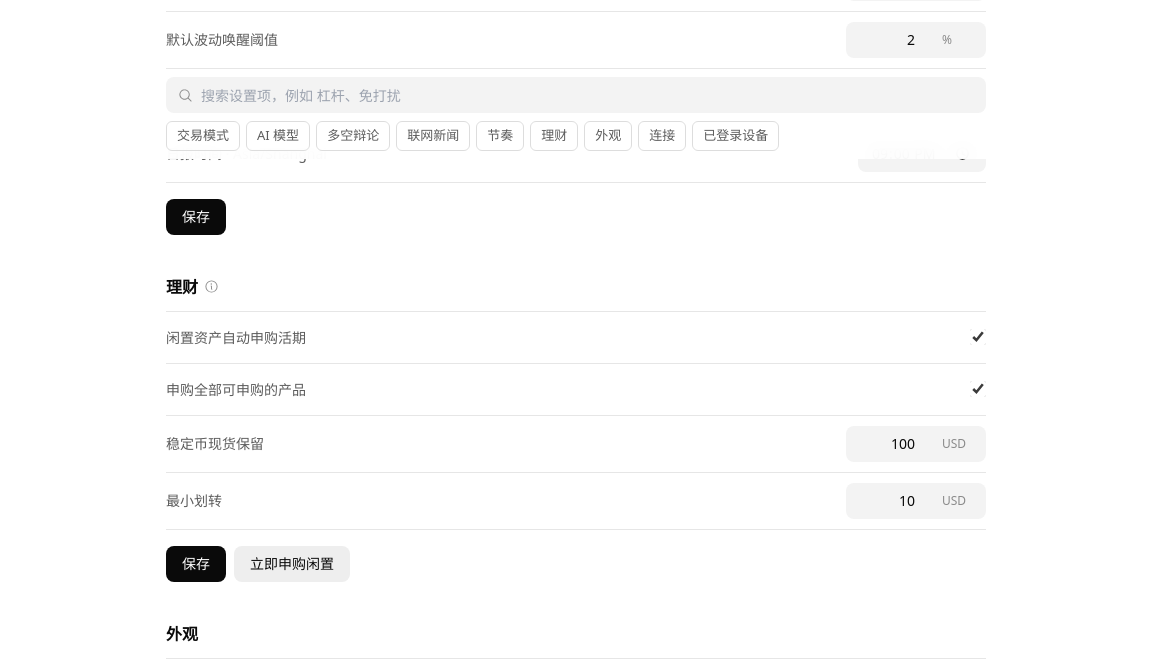
Settings page (设置) › does nothing when the dangerous change is cancelled
(page scrolled)
Expected: the heading "理财" is shown, x1=166 y1=274 x2=219 y2=298
Click the checkbox named "闲置资产自动申购活期".
click(978, 337)  # box x1=970 y1=329 x2=986 y2=345
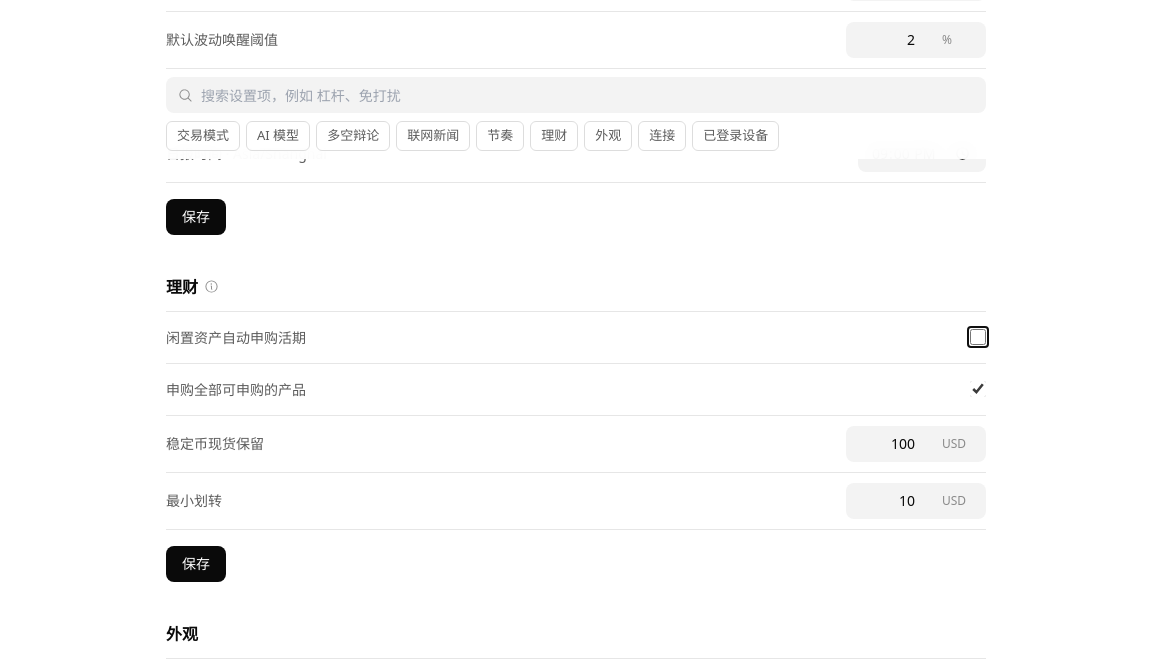
Click the button "保存" below "最小划转".
click(196, 564)  # box x1=166 y1=546 x2=226 y2=582
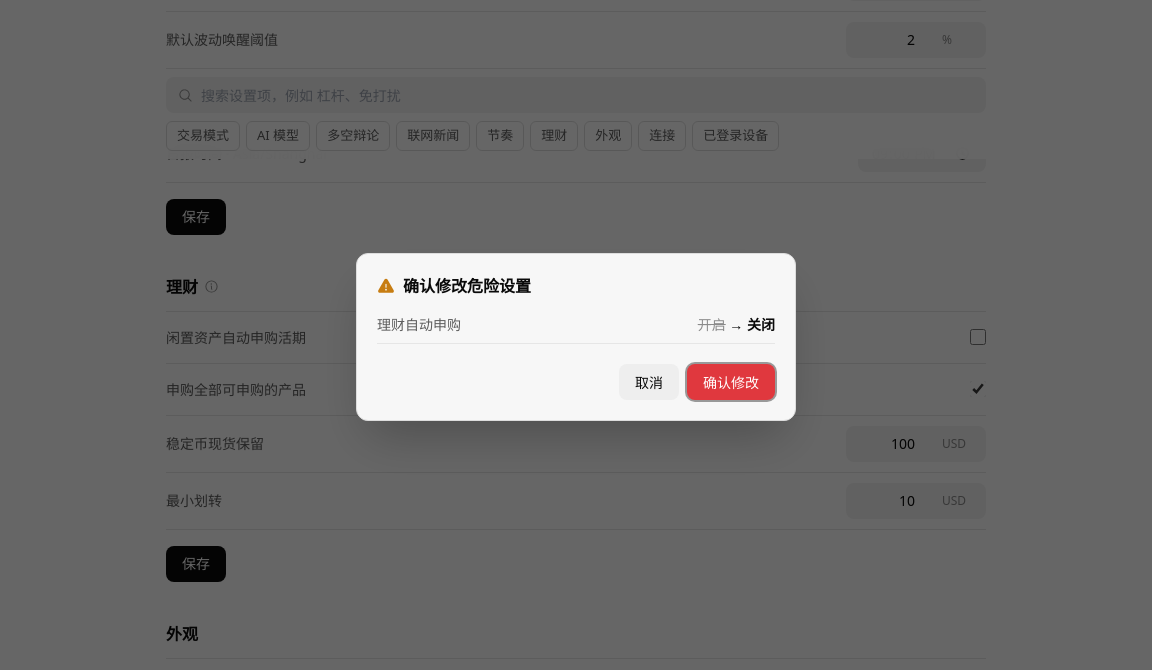
Click the button "取消".
click(649, 382)  # box x1=619 y1=364 x2=679 y2=400
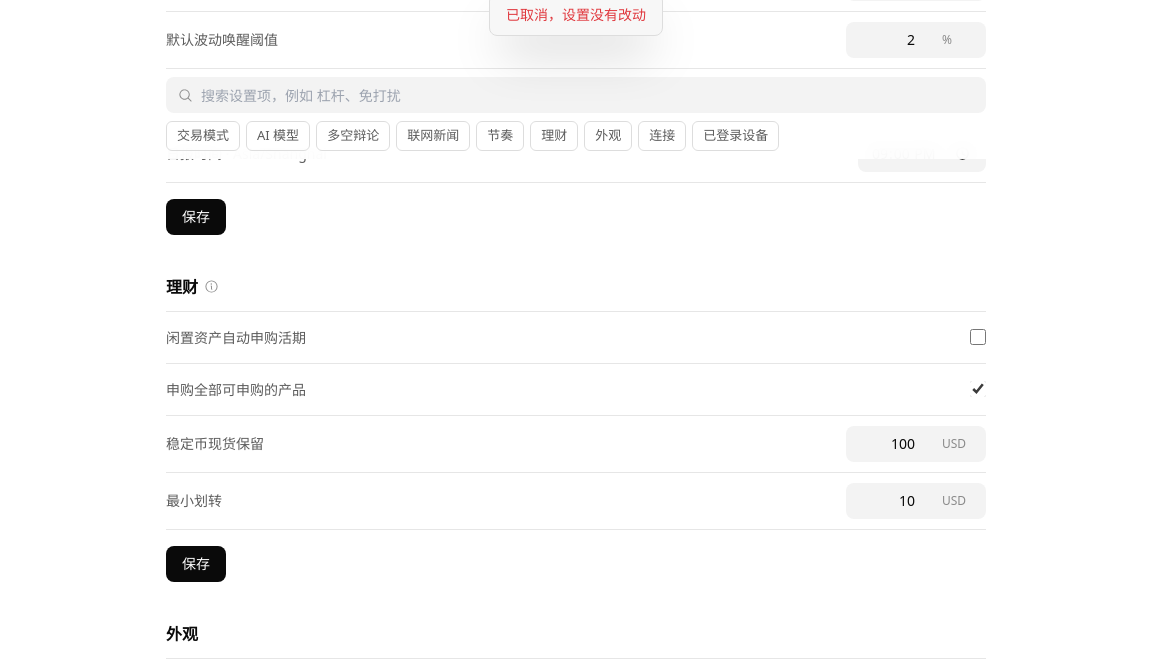
Expected: the message reads "已取消，设置没有改动", x1=506 y1=5 x2=646 y2=24
